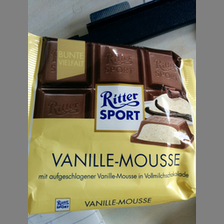chocolate: (28, 35, 195, 212)
